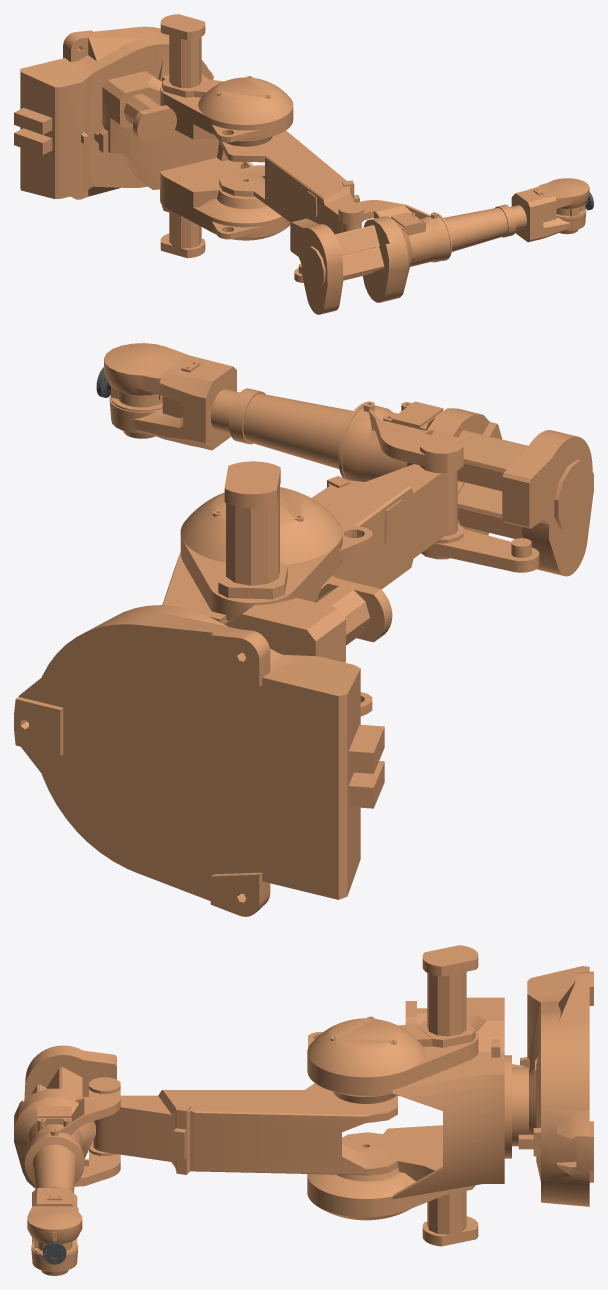
Rendered from tesseract_scene.glb.
3 renders of one model, top to bottom at view 1: azimuth 30°, elevation 25°; view 2: azimuth 150°, elevation 25°; view 3: azimuth 270°, elevation 25°, orthographic. The views are drawn at different scales.
Parts seen in each view (by area): view 1: link_link_1, link_base_link, link_link_3, link_link_2, link_link_4; view 2: link_base_link, link_link_1, link_link_3, link_link_4, link_link_2, link_link_5; view 3: link_link_1, link_link_2, link_base_link, link_link_3, link_link_4, link_link_6.
Boxes of the visible parts, x1,y1,x2,y2 form: link_link_1: (94,14,293,258); link_base_link: (14,26,213,199); link_link_3: (290,200,449,314); link_link_2: (219,130,361,234); link_link_4: (437,178,589,260); link_base_link: (14,605,384,916); link_link_1: (162,461,392,716); link_link_3: (342,401,593,576); link_link_4: (104,343,363,480); link_link_2: (311,464,457,589); link_link_5: (111,386,162,411); link_link_1: (307,945,528,1246); link_link_2: (93,1083,397,1175); link_base_link: (518,966,593,1206); link_link_3: (14,1045,120,1187); link_link_4: (24,1135,84,1275); link_link_6: (43,1242,66,1264).
Bounding box in the file's own units: 1.41 × 0.833 × 1.57.
